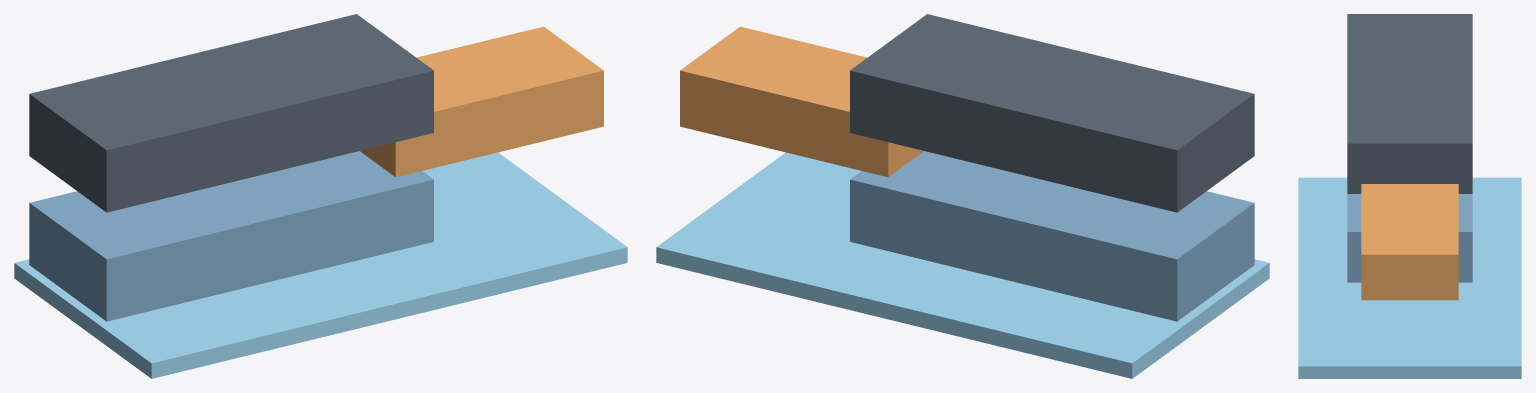
File: microprocessor_memory_interfacing.glb
The picture shows the model from 3 angles, left to right: view 1: azimuth 30°, elevation 25°; view 2: azimuth 150°, elevation 25°; view 3: azimuth 270°, elevation 25°; orthographic projection. The views are drawn at different scales.
Parts seen in each view (by area): view 1: StaticRAM6116ICPackage, SystemBusRibbonConnector, EPROM2716WithQuartzWindow, AddressDecoder74LS138; view 2: StaticRAM6116ICPackage, SystemBusRibbonConnector, EPROM2716WithQuartzWindow, AddressDecoder74LS138; view 3: SystemBusRibbonConnector, StaticRAM6116ICPackage, AddressDecoder74LS138, EPROM2716WithQuartzWindow.
Part boxes in pixels (bbox=[...]): StaticRAM6116ICPackage: bbox=[29, 14, 433, 212]; SystemBusRibbonConnector: bbox=[14, 152, 627, 378]; EPROM2716WithQuartzWindow: bbox=[29, 151, 433, 321]; AddressDecoder74LS138: bbox=[360, 26, 603, 177]; StaticRAM6116ICPackage: bbox=[850, 14, 1254, 212]; SystemBusRibbonConnector: bbox=[656, 152, 1269, 378]; EPROM2716WithQuartzWindow: bbox=[850, 151, 1254, 321]; AddressDecoder74LS138: bbox=[680, 26, 923, 177]; SystemBusRibbonConnector: bbox=[1298, 177, 1521, 378]; StaticRAM6116ICPackage: bbox=[1347, 14, 1472, 193]; AddressDecoder74LS138: bbox=[1361, 184, 1458, 300]; EPROM2716WithQuartzWindow: bbox=[1347, 194, 1472, 282].
Size of the model in its own units: 1.7 by 0.675 by 0.8.
